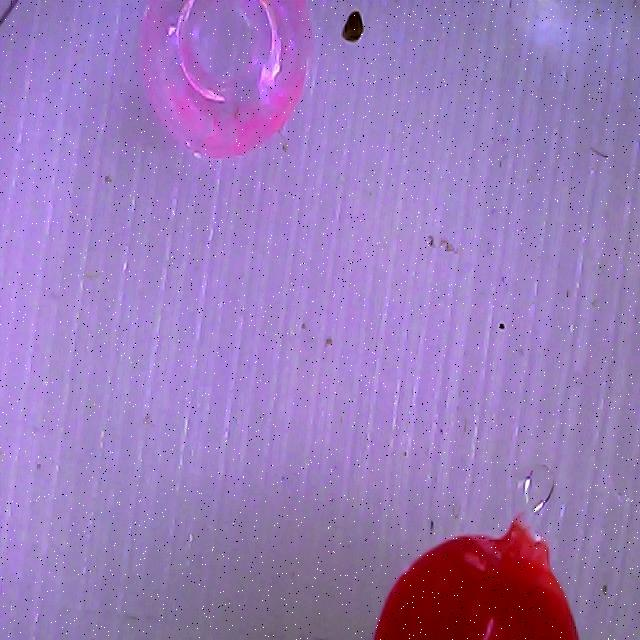beads: (140, 0, 312, 157), (376, 519, 580, 640)
